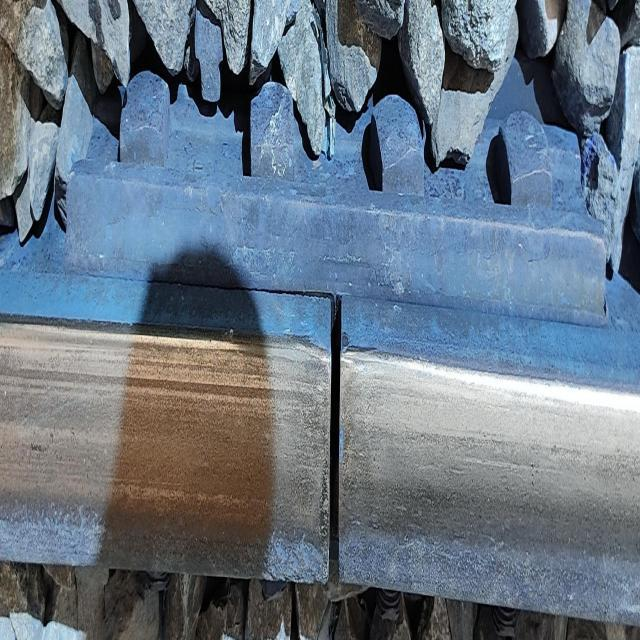Good Joint: (52, 62, 638, 640)
